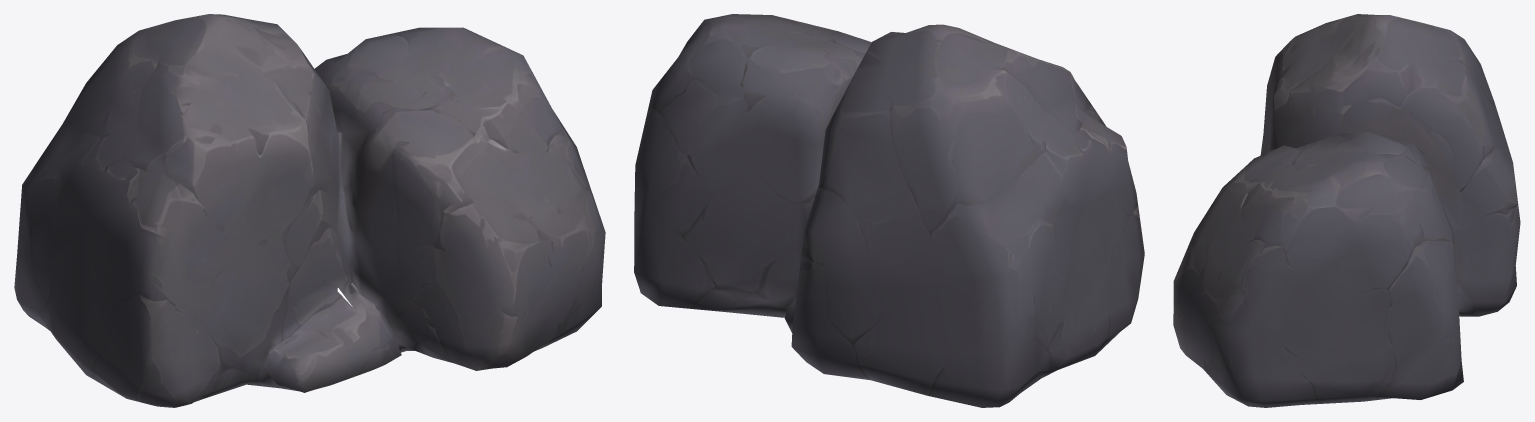
Rendered from stone_rocks.glb.
The picture shows the model from 3 angles, left to right: view 1: azimuth 30°, elevation 25°; view 2: azimuth 150°, elevation 25°; view 3: azimuth 270°, elevation 25°; orthographic projection. The views are drawn at different scales.
Parts seen in each view (by area): view 1: tripo_node_33d73b05; view 2: tripo_node_33d73b05; view 3: tripo_node_33d73b05.
Part boxes in pixels (x1,y1,x2,y2): tripo_node_33d73b05: (14, 14, 605, 407); tripo_node_33d73b05: (634, 14, 1144, 407); tripo_node_33d73b05: (1173, 14, 1520, 407).
Bounding box in the file's own units: 1.66 × 1.1 × 1.29.
1 material, 1 textured.
